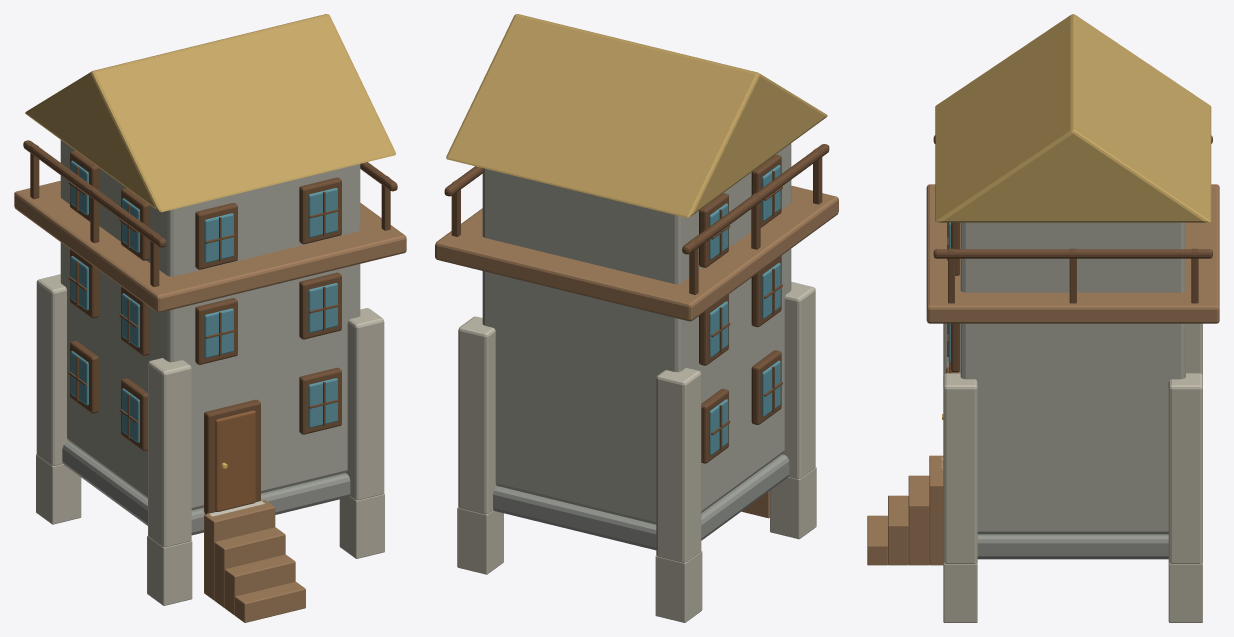
Rendered from wetland-tower-1.glb.
3 views of the same model, side by side, from view 1: azimuth 30°, elevation 25°; view 2: azimuth 150°, elevation 25°; view 3: azimuth 270°, elevation 25° (orthographic). The views are drawn at different scales.
Visible parts, largest first — view 1: Golden thatch, Fieldstone, Warm civic stone, Aged oak, Dark beams, Blue glass, Foundation stone, Door oak; view 2: Fieldstone, Golden thatch, Warm civic stone, Aged oak, Dark beams, Foundation stone, Blue glass; view 3: Fieldstone, Golden thatch, Aged oak, Warm civic stone, Foundation stone, Dark beams.
Part boxes in pixels (<box>): Golden thatch: <box>25,14,395,212</box>; Fieldstone: <box>60,140,360,510</box>; Warm civic stone: <box>36,274,384,605</box>; Aged oak: <box>14,181,406,622</box>; Dark beams: <box>23,140,397,514</box>; Blue glass: <box>70,160,337,442</box>; Foundation stone: <box>62,442,350,535</box>; Door oak: <box>215,410,255,511</box>; Fieldstone: <box>482,143,791,524</box>; Golden thatch: <box>446,14,827,217</box>; Warm civic stone: <box>457,282,816,622</box>; Aged oak: <box>435,185,838,518</box>; Dark beams: <box>444,144,829,463</box>; Foundation stone: <box>493,454,789,550</box>; Blue glass: <box>709,165,780,455</box>; Fieldstone: <box>960,222,1185,534</box>; Golden thatch: <box>935,14,1211,222</box>; Aged oak: <box>867,184,1219,565</box>; Warm civic stone: <box>943,323,1202,622</box>; Foundation stone: <box>977,534,1168,559</box>; Dark beams: <box>933,135,1212,373</box>.
Bounding box in the file's own units: 3.25 × 6.08 × 3.91.
